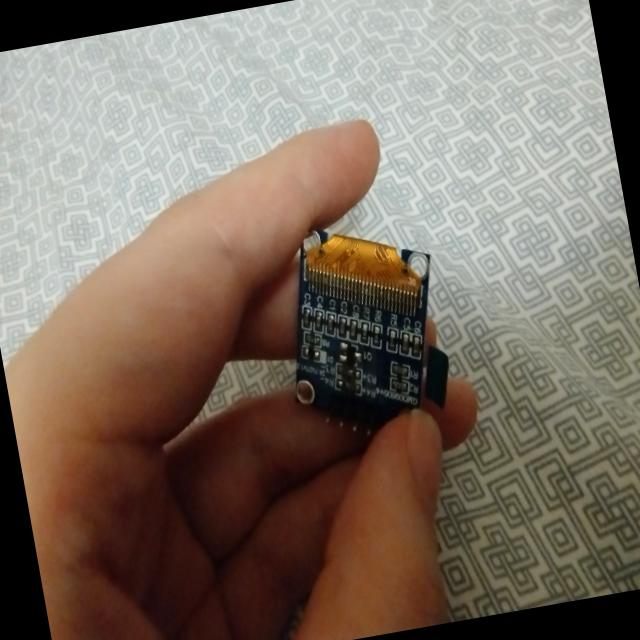oled: (261, 186, 464, 458)
